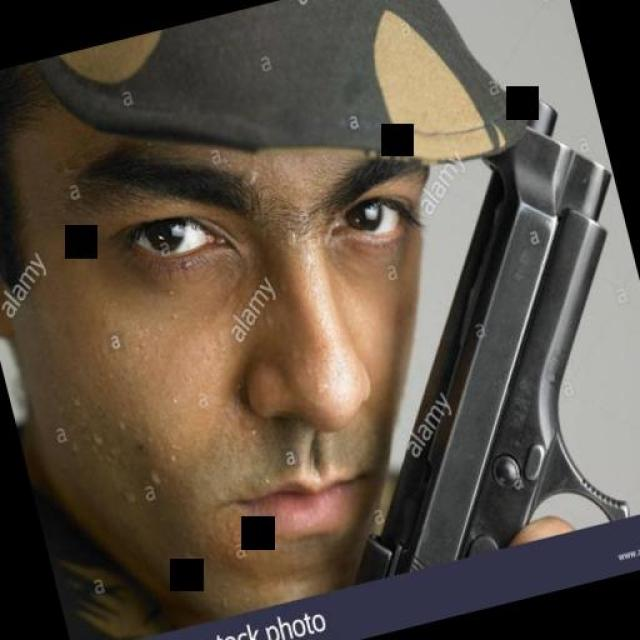gun: (244, 80, 640, 585)
